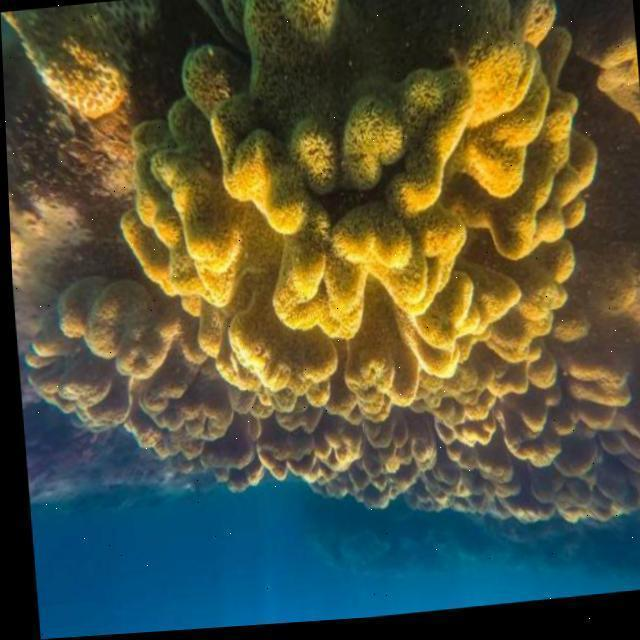Healthy Coral: (39, 0, 622, 453)
